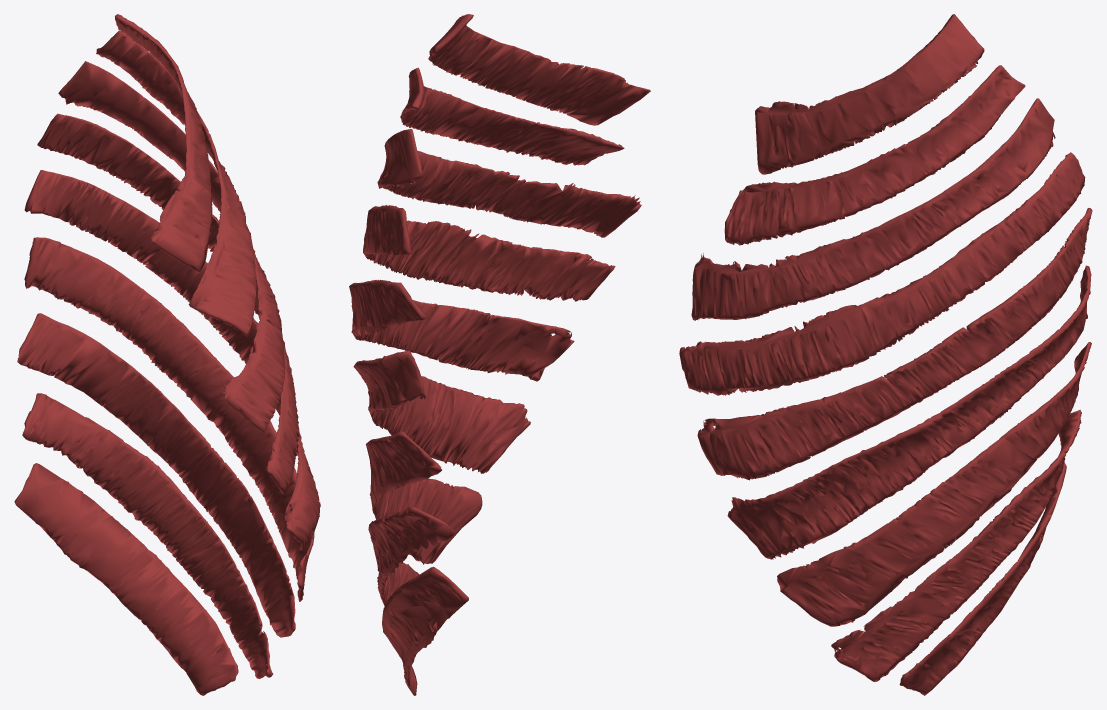
Rendered from innermost-intercostal-muscles-l.glb.
3 renders of one model, left to right at view 1: azimuth 30°, elevation 25°; view 2: azimuth 150°, elevation 25°; view 3: azimuth 270°, elevation 25°, orthographic. The views are drawn at different scales.
Parts seen in each view (by area): view 1: Innermost intercostal muscles.l; view 2: Innermost intercostal muscles.l; view 3: Innermost intercostal muscles.l.
Boxes of the visible parts, x1,y1,x2,y2 form: Innermost intercostal muscles.l: [14, 14, 320, 695]; Innermost intercostal muscles.l: [349, 14, 650, 695]; Innermost intercostal muscles.l: [679, 14, 1092, 695].
Bounding box in the file's own units: 0.0919 × 0.3248 × 0.1874.
